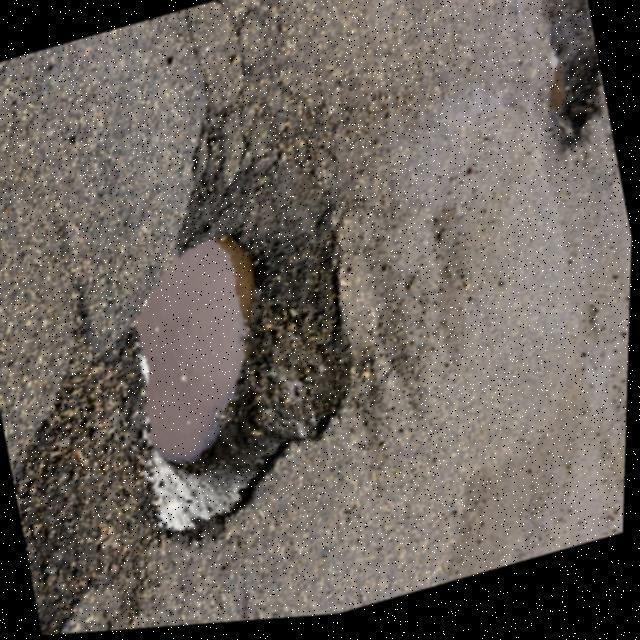pothole: (100, 209, 342, 532)
